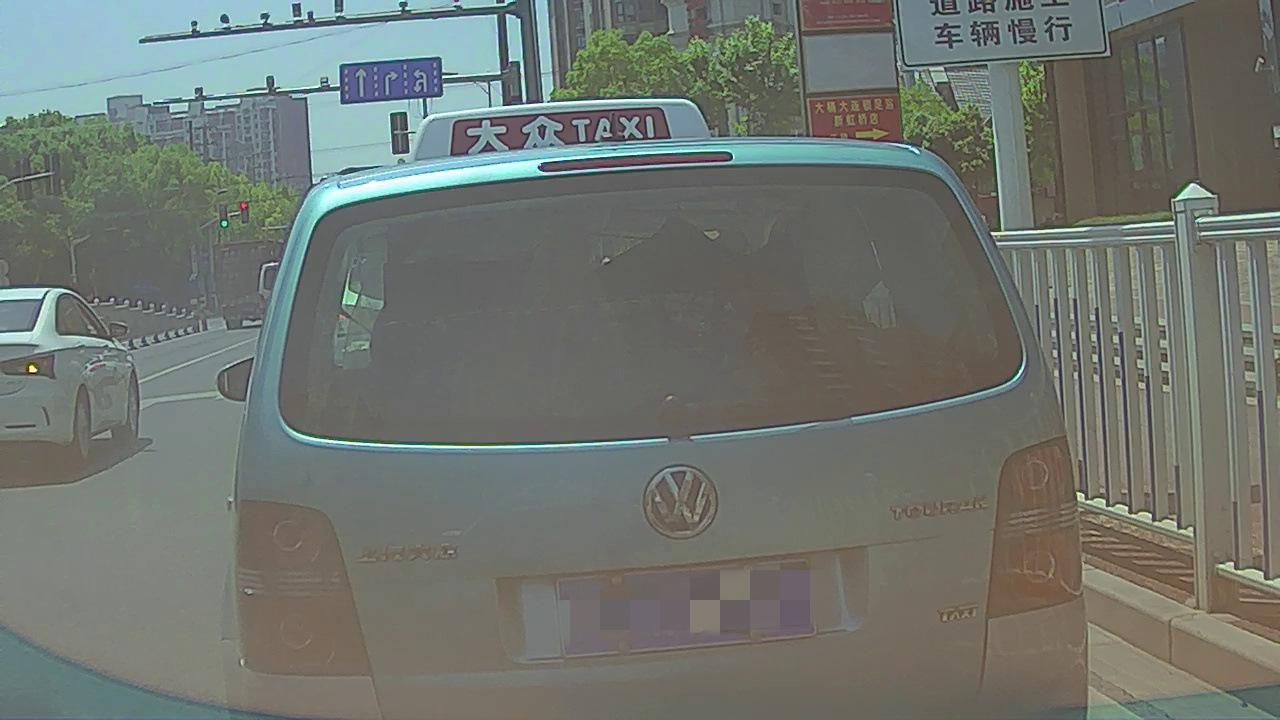traffic_light: (239, 201, 249, 224), (220, 205, 229, 228)
